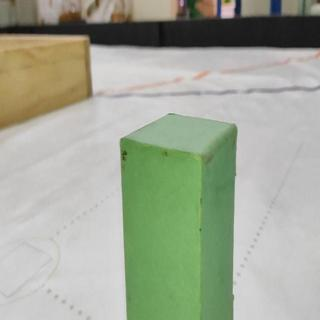greenbox: (117, 110, 241, 320)
